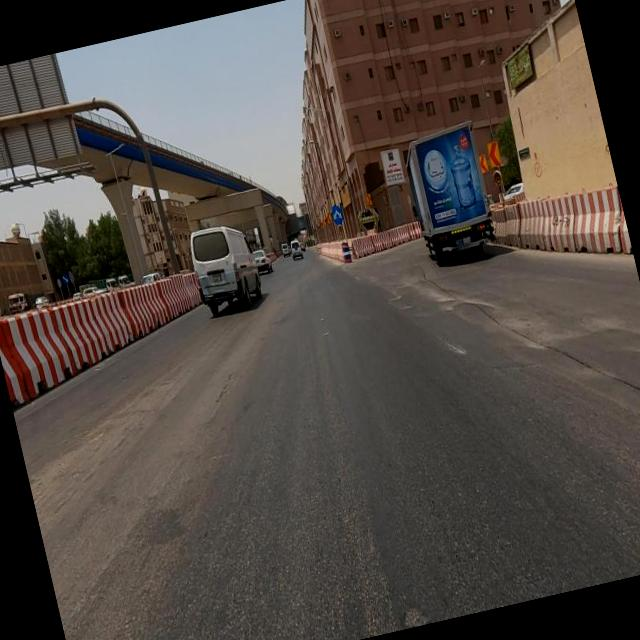debris: (478, 29, 562, 124)
